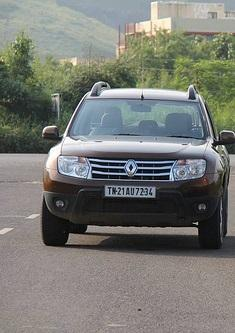License-Plate: (105, 182, 158, 201)
